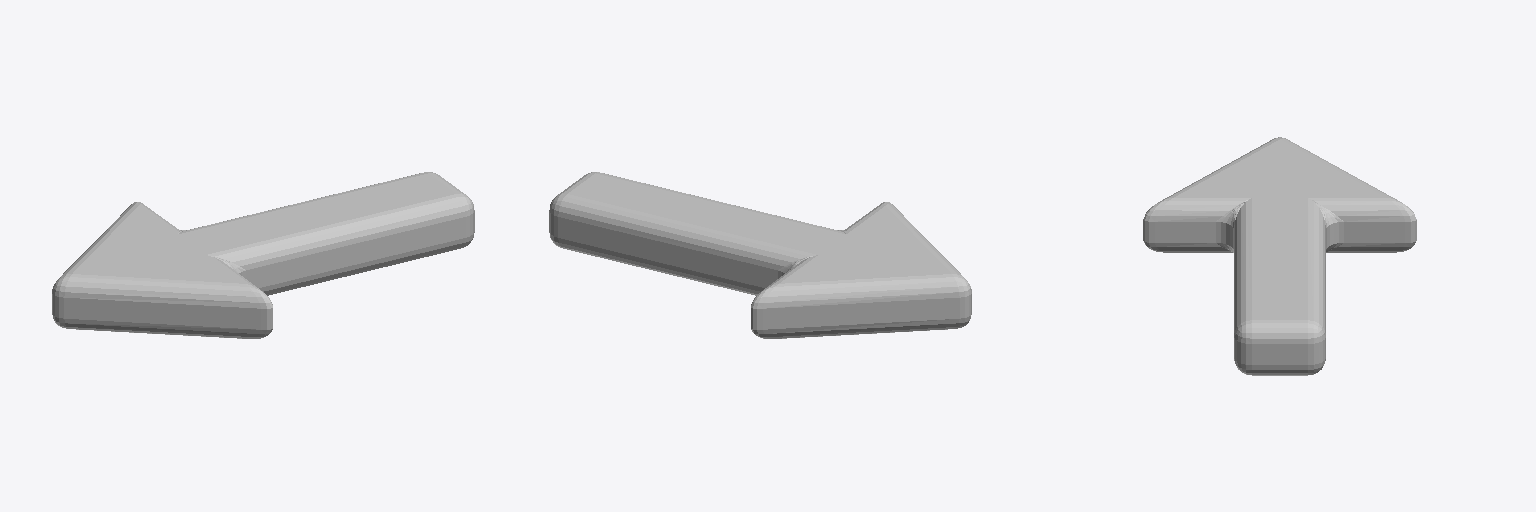
The model's file is Arrow.obj.
3 views of the same model, side by side, from view 1: azimuth 30°, elevation 25°; view 2: azimuth 150°, elevation 25°; view 3: azimuth 270°, elevation 25° (orthographic).
Visible parts, largest first — view 1: Plane; view 2: Plane; view 3: Plane.
Boxes of the visible parts, <box> form: Plane: <box>52,172,474,338</box>; Plane: <box>549,172,971,338</box>; Plane: <box>1143,137,1416,375</box>.
Size of the model in its own units: 2.51 by 0.319 by 1.47.